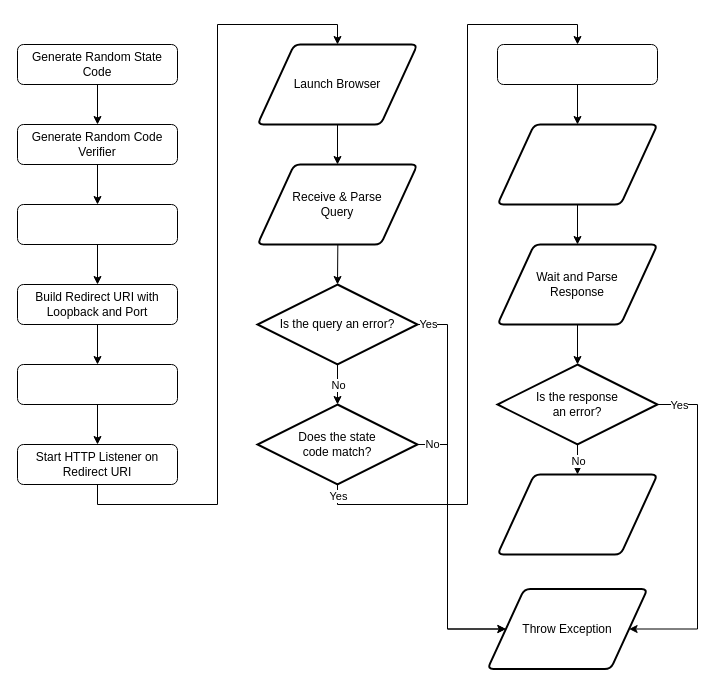
The diagram is 723 pixels wide and 687 high, and some of its shapes have lost their labels. Each missing label, with the box of its shape:
Build Browser URI with Parameters: (16, 364, 178, 404)
Find Unused Port: (16, 204, 178, 244)
Generate POST Request with Parameters: (496, 44, 658, 84)
Return Access & Refresh Tokens: (496, 473, 658, 555)
Send POST Request: (496, 123, 658, 205)
